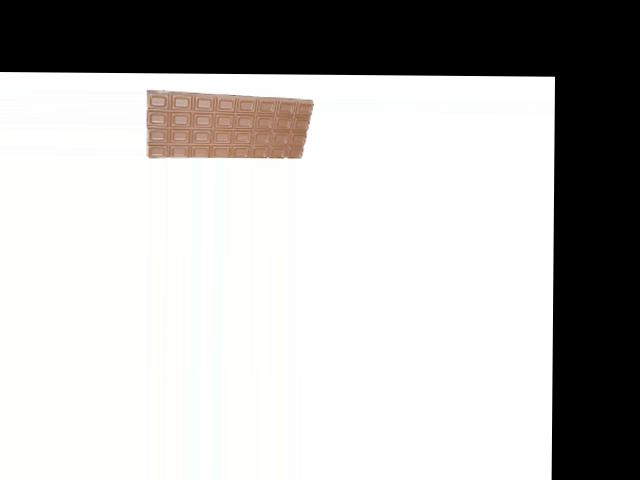chocolate: (144, 92, 315, 159)
